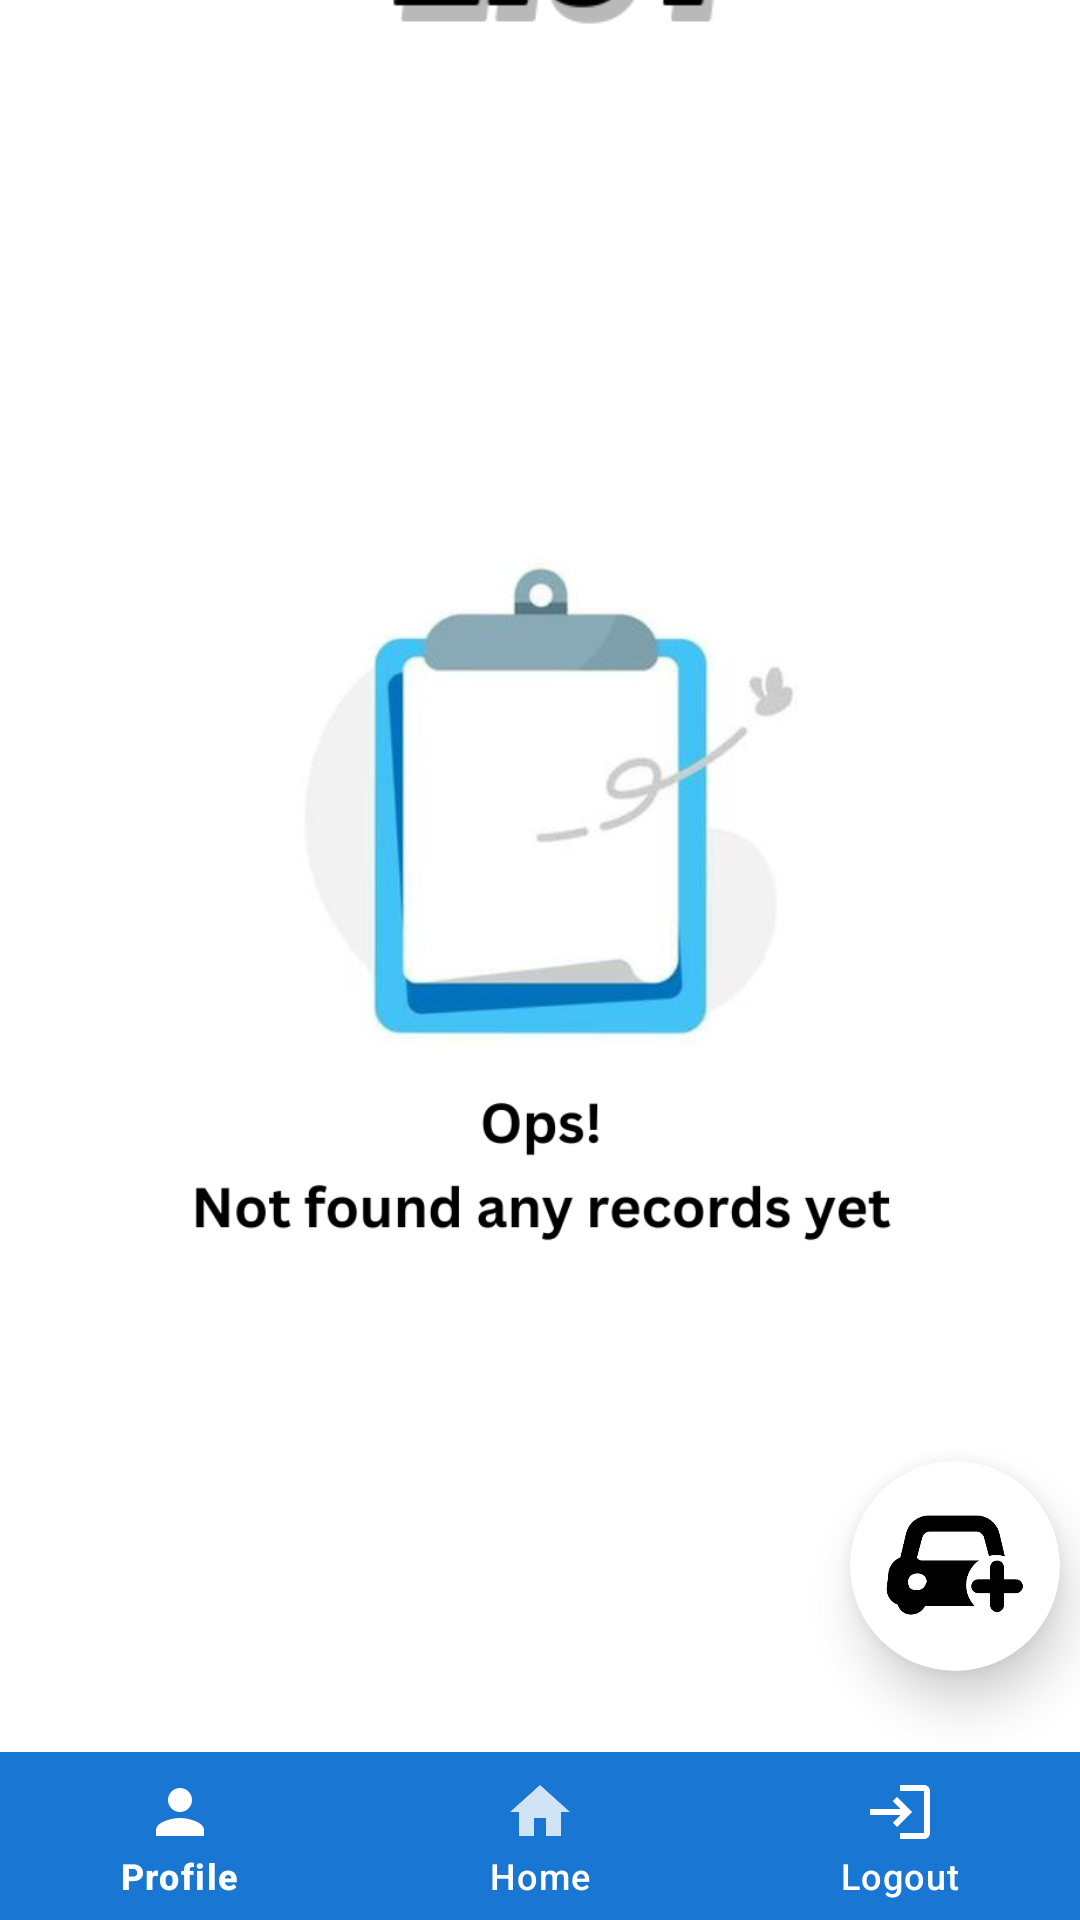

Icons on this 1080x1920 Android screen, each with the point to tap as point (x, y):
addvehicle: point (942, 1566)
